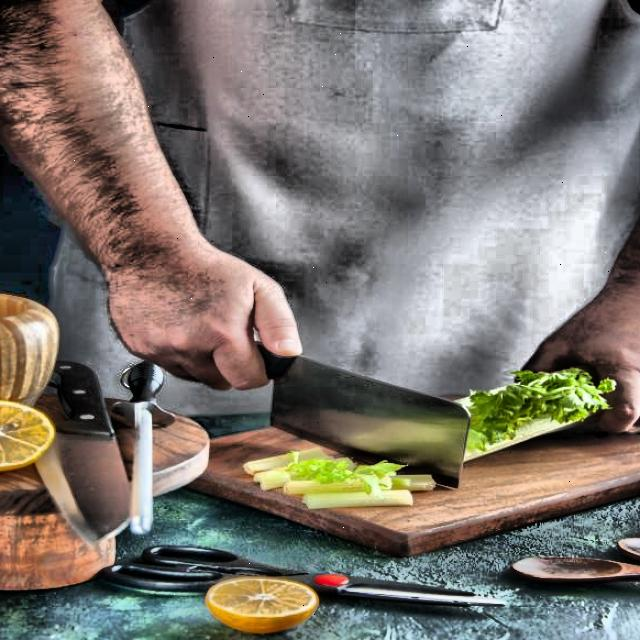knife: (253, 338, 477, 499)
